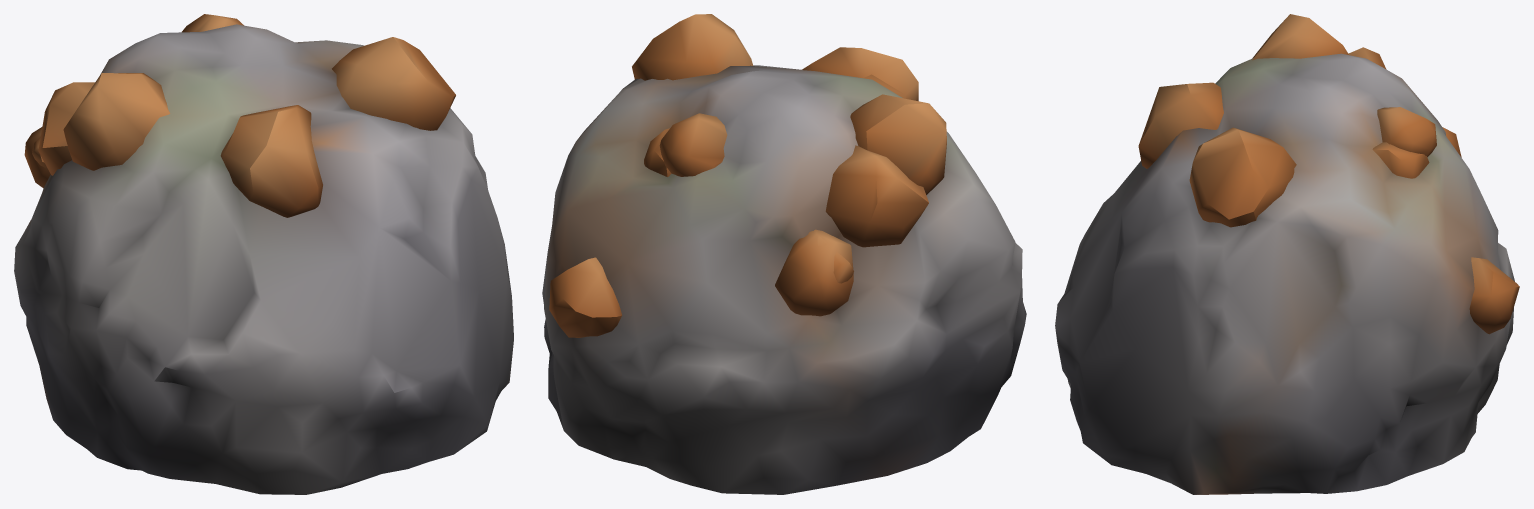
Rendered from cave-oreCopper-v1.glb.
3 renders of one model, left to right at view 1: azimuth 30°, elevation 25°; view 2: azimuth 150°, elevation 25°; view 3: azimuth 270°, elevation 25°, orthographic. The views are drawn at different scales.
Visible parts, largest first — view 1: 0_vein; view 2: 0_vein; view 3: 0_vein.
Part boxes in pixels (x1,y1,x2,y2): 0_vein: [14, 14, 513, 494]; 0_vein: [542, 14, 1026, 494]; 0_vein: [1055, 14, 1519, 494].
Size of the model in its own units: 1.12 by 0.864 by 1.12.
